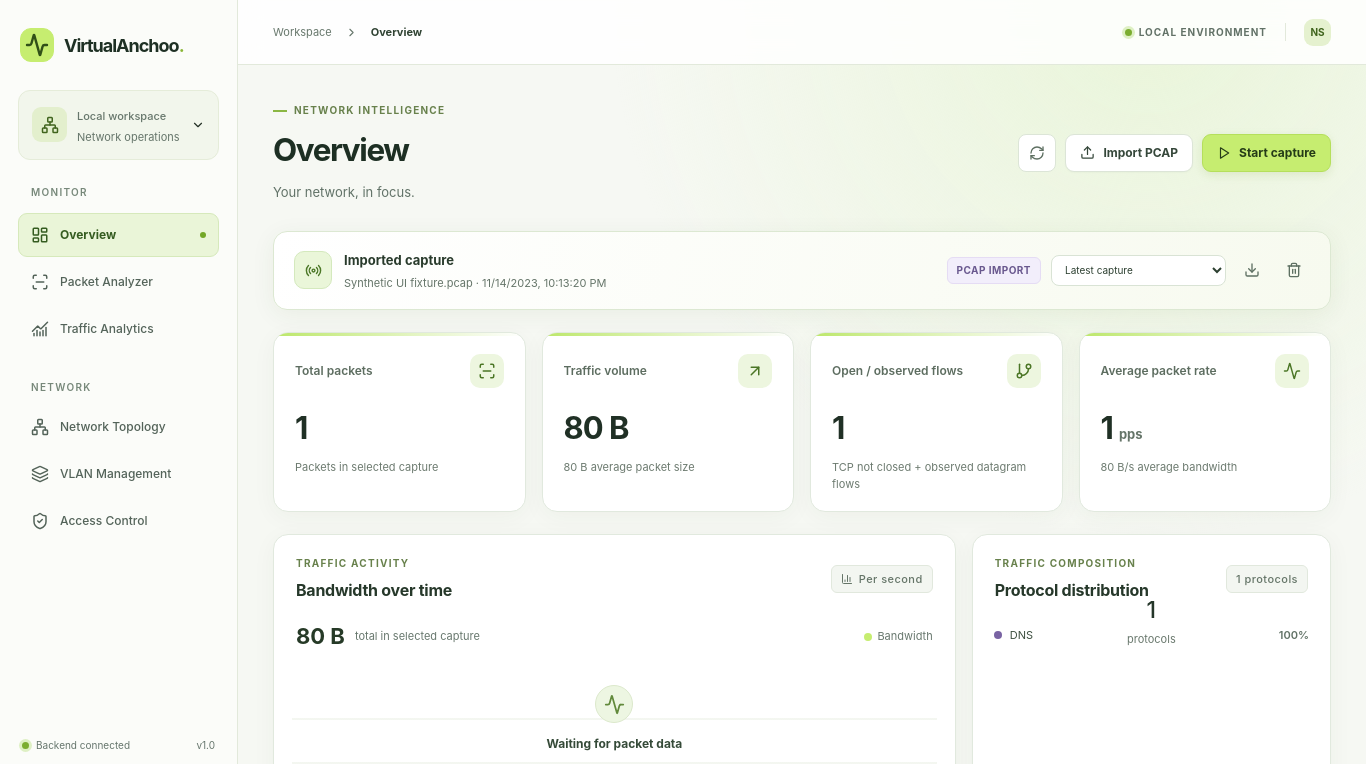
Test: dashboard API contracts › confirms and removes a stored session
expect the text "Backend connected" is shown: met, box top-left (36, 738), bottom-right (130, 753)
Click the button named "Delete selected capture session". click: {"x": 1294, "y": 270}
box: top-left (1278, 254), bottom-right (1310, 286)
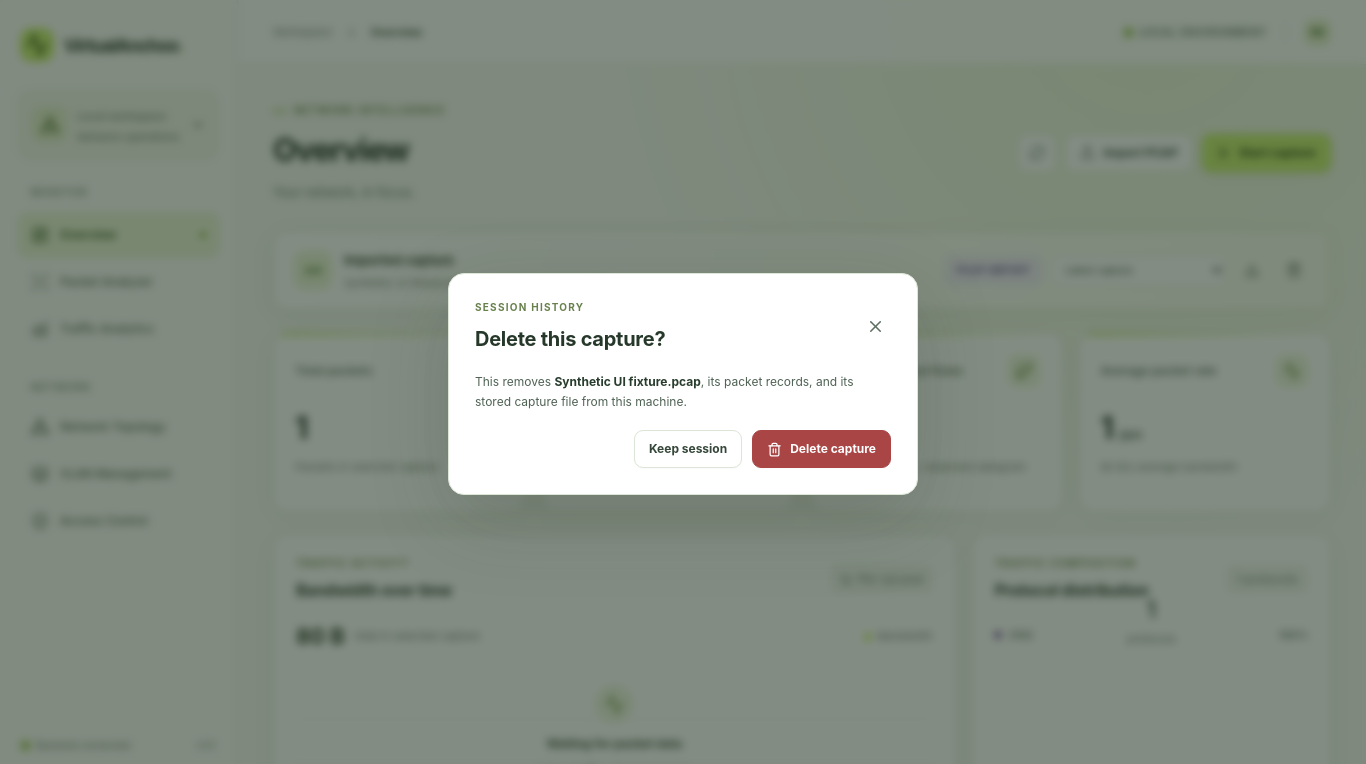
expect the text "Synthetic UI fixture.pcap" is shown: met, box top-left (554, 374), bottom-right (701, 389)
Click the button "Delete capture". click: {"x": 822, "y": 449}
box: top-left (752, 430), bottom-right (891, 468)
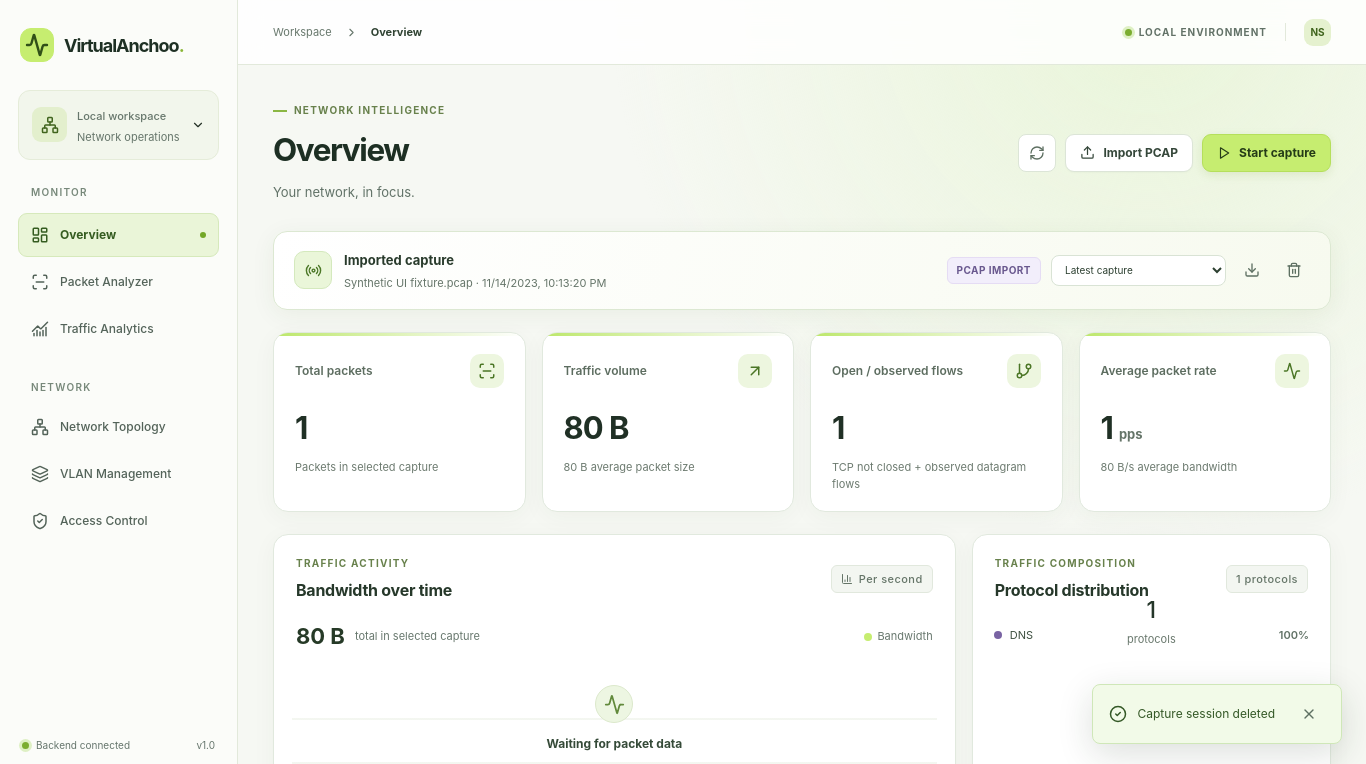
expect the text "Capture session deleted" is shown: met, box top-left (1138, 704), bottom-right (1275, 724)
